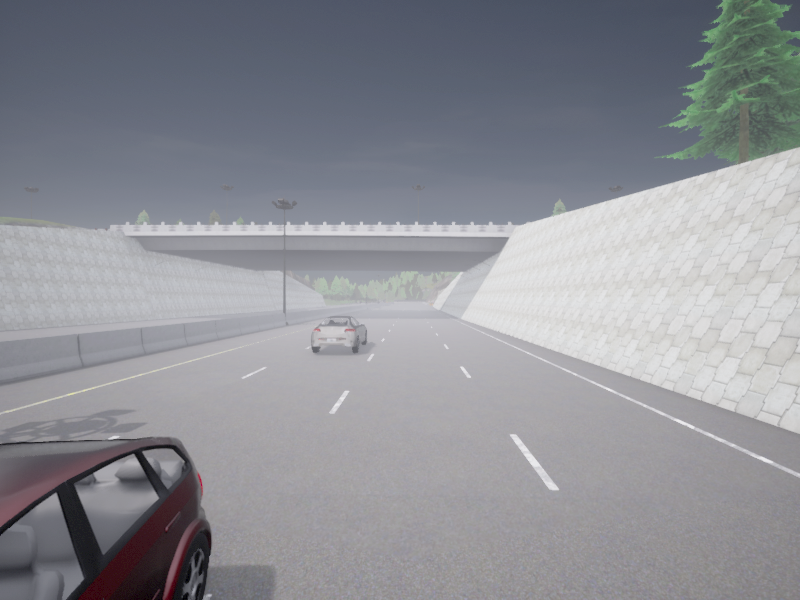vehicle: (0, 437, 211, 599), (311, 316, 366, 352)
